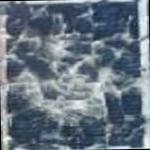Crack: (6, 9, 139, 143)
